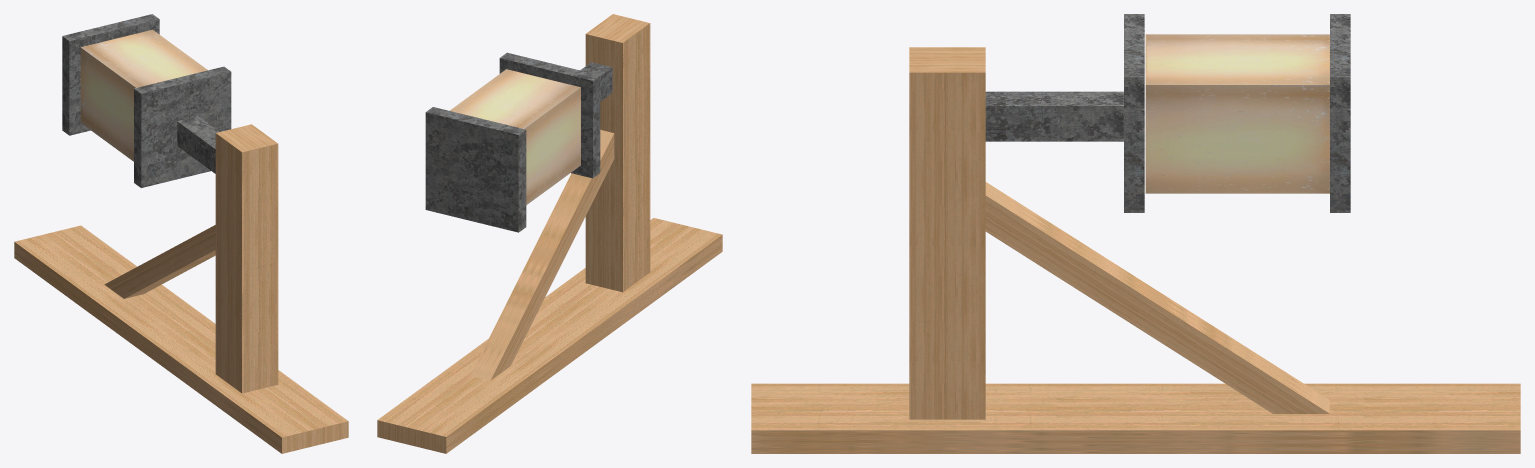
The model's file is lamp.obj.
The picture shows the model from 3 angles, left to right: view 1: azimuth 30°, elevation 25°; view 2: azimuth 150°, elevation 25°; view 3: azimuth 270°, elevation 25°; orthographic projection. The views are drawn at different scales.
Visible parts, largest first — view 1: Box096_Mesh.009; view 2: Box096_Mesh.009; view 3: Box096_Mesh.009.
Part boxes in pixels (bbox=[...]): Box096_Mesh.009: bbox=[14, 14, 348, 453]; Box096_Mesh.009: bbox=[377, 14, 722, 453]; Box096_Mesh.009: bbox=[751, 14, 1520, 453].
Bounding box in the file's own units: 0.2111 × 0.6106 × 1.08.
